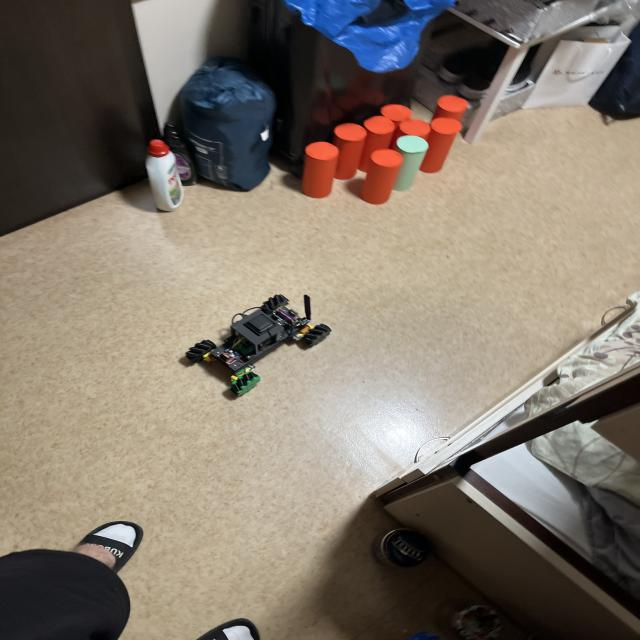robot: (186, 294, 331, 395)
